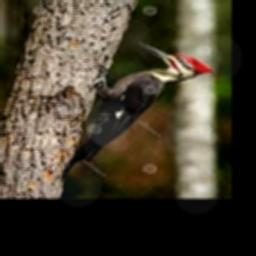Woodpecker: (61, 41, 211, 179)
